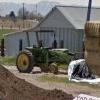Tractor: (12, 23, 71, 78)
